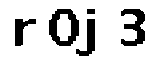0: (45, 6, 80, 49)
3: (115, 6, 148, 51)
j: (79, 6, 98, 60)
r: (11, 13, 39, 49)
